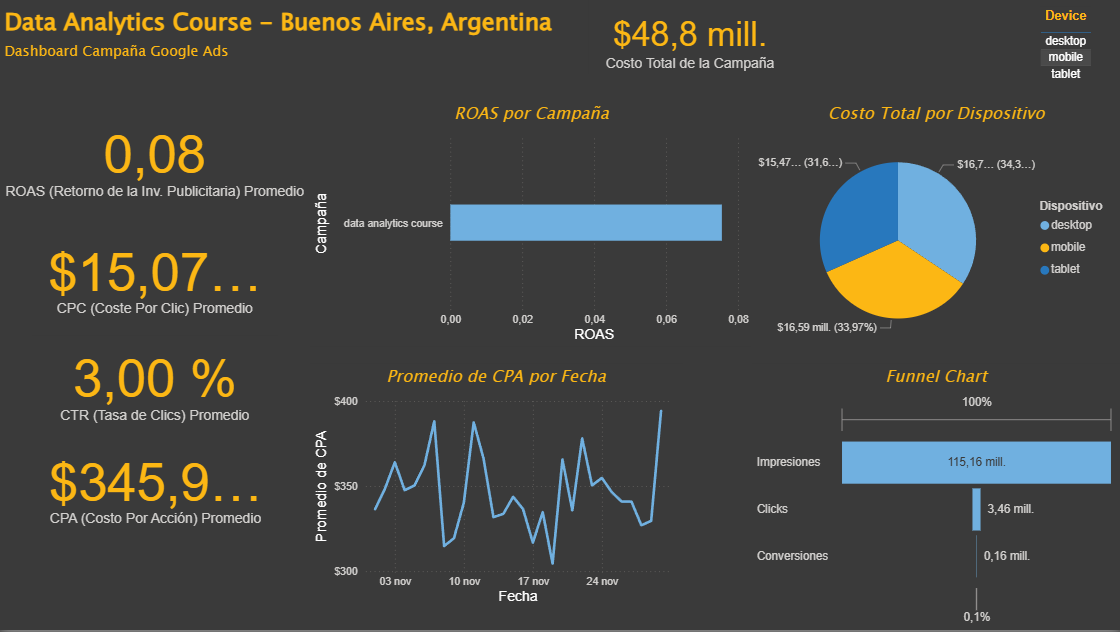

The dashboard page shown, as its layout file describes it:
{"tool":"powerbi","page":{"name":"Página 1","canvas":[1280,720],"ordinal":0},"visuals":[{"type":"card","fields":{"Values":["Sheet1$.CTR_Correcto"]},"box":[37,382.4,279.9,108.4],"z":0},{"type":"card","fields":{"Values":["Avg(Sheet1$.CPA)"]},"box":[39.8,490.8,275.8,127.6],"z":1000},{"type":"card","fields":{"Values":["Sheet1$.ROAS_Correcto"]},"box":[0,116.2,354,130.4],"z":2000},{"type":"card","fields":{"Values":["Avg(Sheet1$.CPC)"]},"box":[37,246.6,279.9,135.8],"z":3000},{"type":"lineChart","fields":{"Y":["Avg(Sheet1$.CPA)"],"Category":["Sheet1$.Ad_Date"]},"box":[354,415.4,425.4,279.9],"z":4000},{"type":"barChart","fields":{"Category":["Sheet1$.Campaign_Name"],"Y":["Sheet1$.ROAS_Correcto"]},"box":[354,116.2,506.3,279.9],"z":5000},{"type":"pieChart","fields":{"Category":["Sheet1$.Device"],"Y":["Sum(Sheet1$.Cost)"]},"box":[860.4,116.2,419.9,289.5],"z":6000},{"type":"funnel","title":"Funnel Chart","fields":{"Y":["Sum(Sheet1$.Impressions)","Sum(Sheet1$.Clicks)","Sum(Sheet1$.Conversions)"]},"box":[860.4,415.4,419.9,304.6],"z":7000},{"type":"card","fields":{"Values":["Sum(Sheet1$.Cost)"]},"box":[672.4,0,231.9,91.9],"z":8000},{"type":"tableEx","fields":{"Values":["Sheet1$.Device"]},"box":[1182.9,2.7,97.4,115.3],"z":9000},{"type":"textbox","box":[0,0,684.7,299.1],"z":10000}]}

Visuals, with their boxes in screenshot pixels (x1, y1, x2, y2), scaled from the page's 1280x720 canvas onto the 1120x632 screenshot:
card - Sheet1$.CTR_Correcto: [x1=32, y1=336, x2=277, y2=431]
card - Avg(Sheet1$.CPA): [x1=35, y1=431, x2=276, y2=543]
card - Sheet1$.ROAS_Correcto: [x1=0, y1=102, x2=310, y2=216]
card - Avg(Sheet1$.CPC): [x1=32, y1=216, x2=277, y2=336]
lineChart - Avg(Sheet1$.CPA) x Sheet1$.Ad_Date: [x1=310, y1=365, x2=682, y2=610]
barChart - Sheet1$.Campaign_Name x Sheet1$.ROAS_Correcto: [x1=310, y1=102, x2=753, y2=348]
pieChart - Sheet1$.Device x Sum(Sheet1$.Cost): [x1=753, y1=102, x2=1119, y2=356]
"Funnel Chart" funnel: [x1=753, y1=365, x2=1119, y2=631]
card - Sum(Sheet1$.Cost): [x1=588, y1=0, x2=791, y2=81]
tableEx - Sheet1$.Device: [x1=1035, y1=2, x2=1119, y2=104]
textbox: [x1=0, y1=0, x2=599, y2=263]
